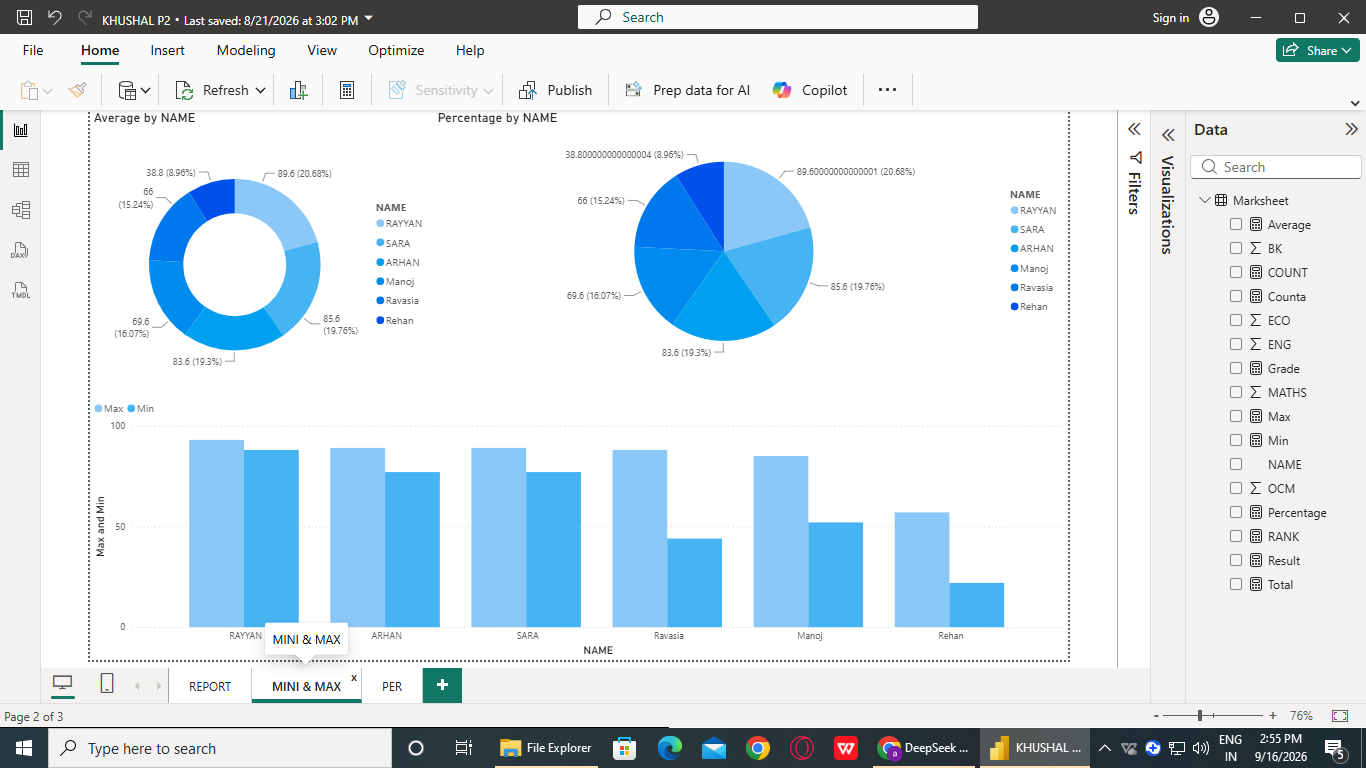

This screenshot's page, from the dashboard's own definition file:
{"tool":"powerbi","page":{"name":"MINI & MAX","canvas":[1280,720],"ordinal":1},"visuals":[{"type":"lineClusteredColumnComboChart","fields":{"Category":["Marksheet.NAME"],"Y":["Marksheet.Max","Marksheet.Min"]},"box":[0,340,1280,380],"z":0},{"type":"donutChart","fields":{"Y":["Marksheet.Average"],"Category":["Marksheet.NAME"]},"box":[0,0,450,375],"z":1001},{"type":"pieChart","fields":{"Y":["Marksheet.Percentage"],"Category":["Marksheet.NAME"]},"box":[450,0,830,340],"z":1002}]}

Visuals, with their boxes on the page's 1280x720 design canvas (x1, y1, x2, y2). These are canvas units, not pixel positions in the 1366x768 screenshot, which may show the page scaled, cropped or inside an application window:
lineClusteredColumnComboChart - Marksheet.NAME x Marksheet.Max: region(0, 340, 1280, 720)
donutChart - Marksheet.Average x Marksheet.NAME: region(0, 0, 450, 375)
pieChart - Marksheet.Percentage x Marksheet.NAME: region(450, 0, 1280, 340)
